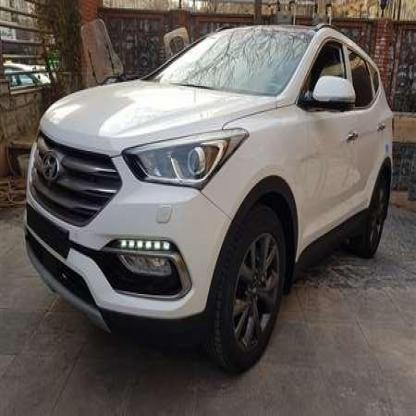Car: (26, 22, 398, 382)
